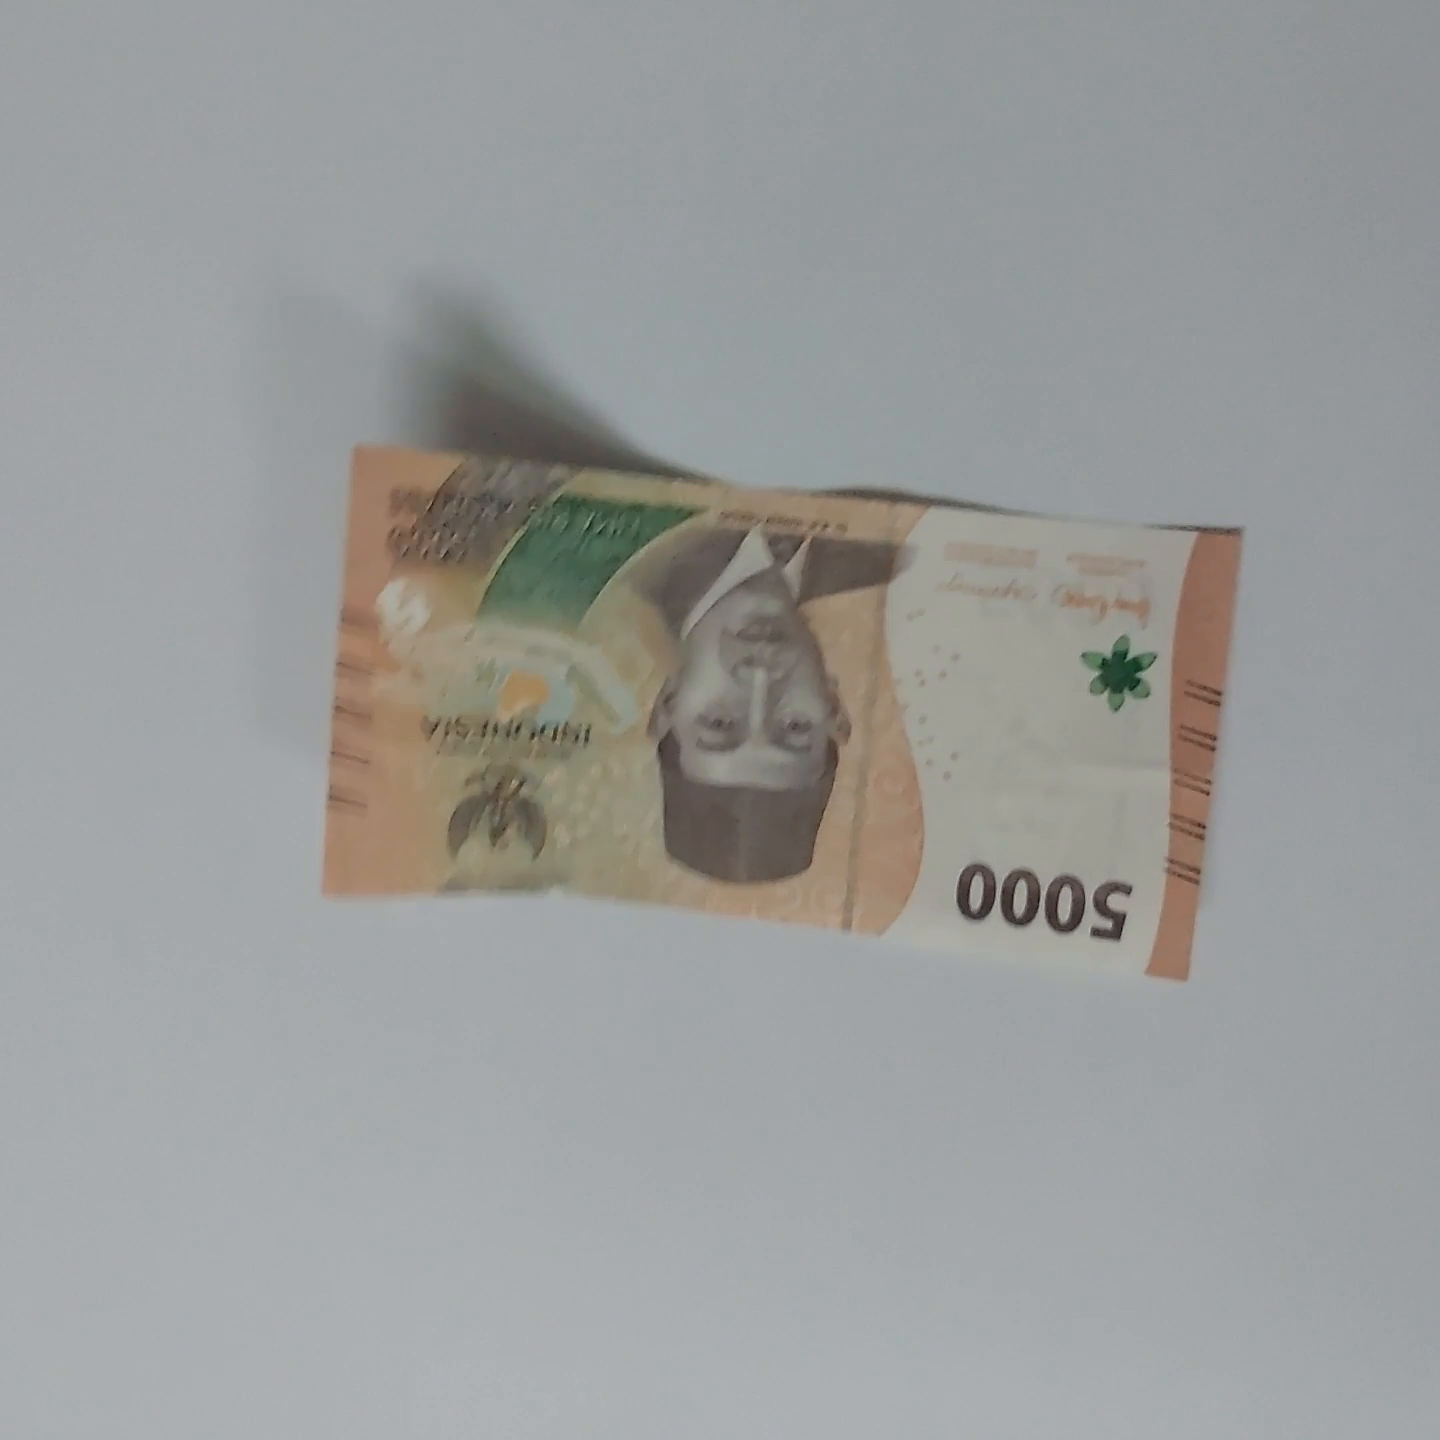5k: (264, 413, 1267, 1021)
